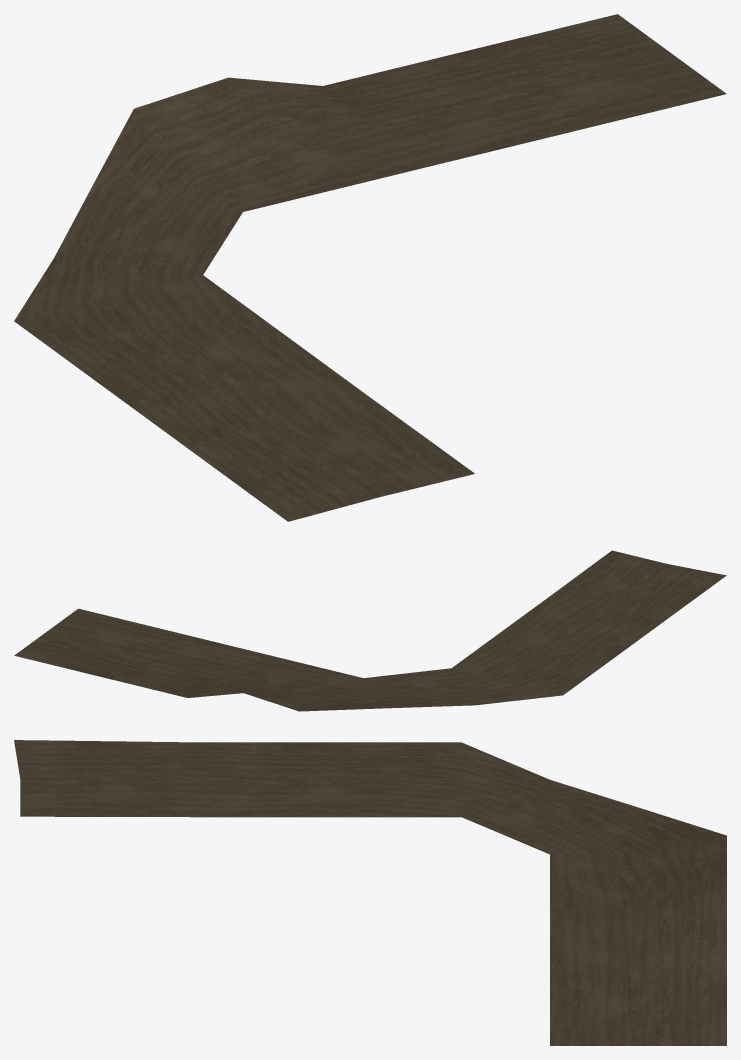
Rendered from blend_path11.fbx.
3 renders of one model, top to bottom at view 1: azimuth 30°, elevation 25°; view 2: azimuth 150°, elevation 25°; view 3: azimuth 270°, elevation 25°, orthographic. The views are drawn at different scales.
Parts seen in each view (by area): view 1: blend_path11-0; view 2: blend_path11-0; view 3: blend_path11-0.
Part boxes in pixels (x1,y1,x2,y2): blend_path11-0: (14,14,726,521); blend_path11-0: (14,550,726,711); blend_path11-0: (14,740,726,1045).
Bounding box in the file's own units: 20.35 × 0.7958 × 20.14.
